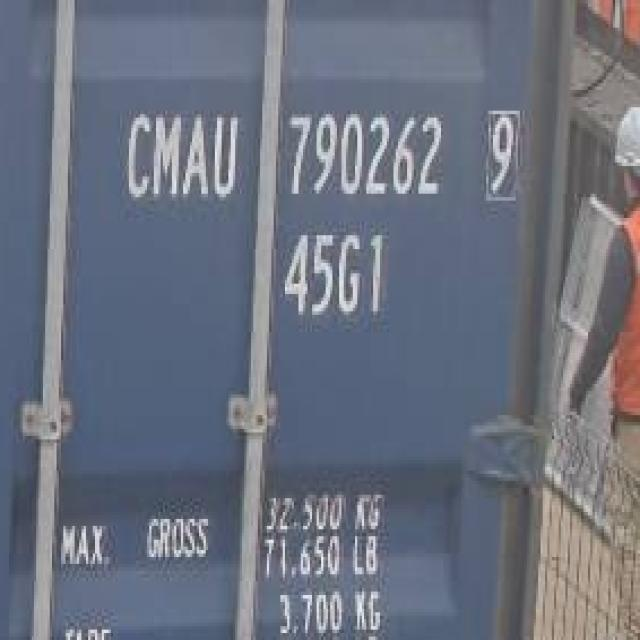dv: (480, 98, 524, 208)
owner: (120, 95, 245, 213)
serial: (279, 96, 446, 206)
size: (282, 227, 396, 325)
